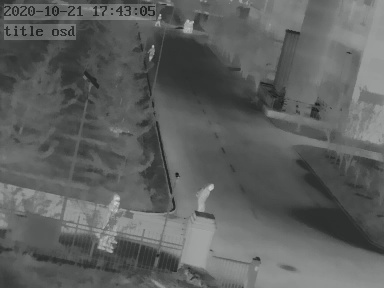person: (105, 192, 124, 226), (197, 180, 215, 215), (147, 44, 156, 61), (154, 13, 163, 28), (182, 18, 189, 33), (189, 19, 195, 35)
